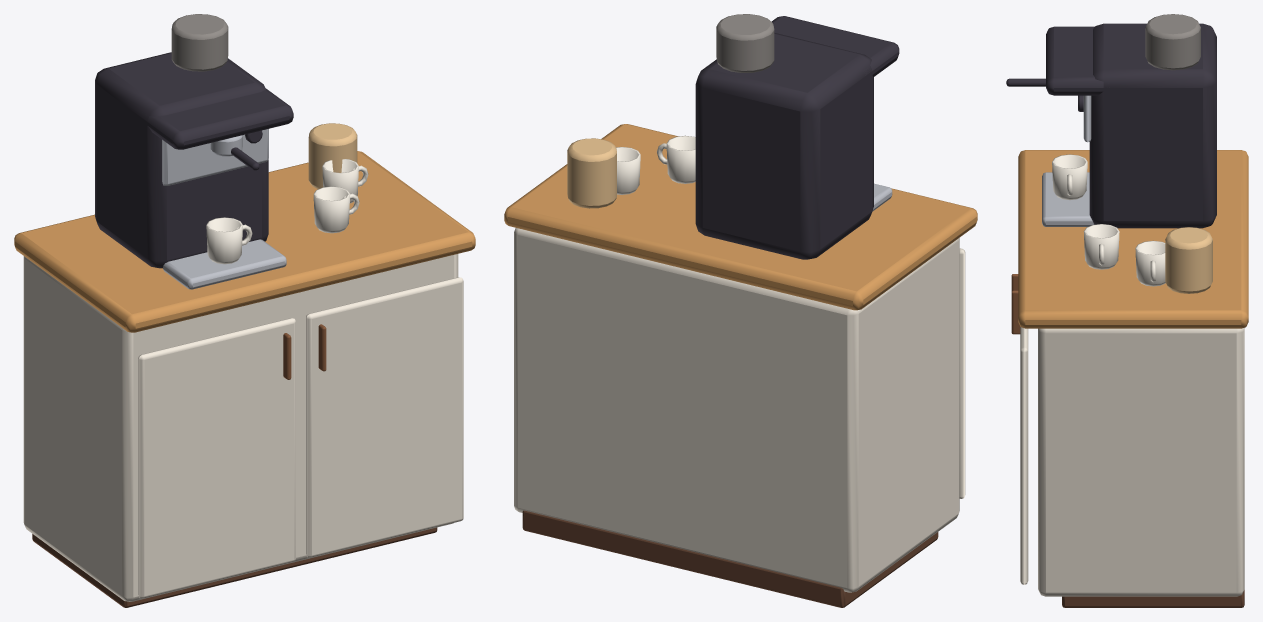
Rendered from coffee_machine.glb.
3 renders of one model, left to right at view 1: azimuth 30°, elevation 25°; view 2: azimuth 150°, elevation 25°; view 3: azimuth 270°, elevation 25°, orthographic. The views are drawn at different scales.
Parts seen in each view (by area): view 1: coffee_machine; view 2: coffee_machine; view 3: coffee_machine.
Part boxes in pixels (x1,y1,x2,y2): coffee_machine: (14, 14, 475, 607); coffee_machine: (504, 14, 977, 607); coffee_machine: (1006, 14, 1248, 607).
Size of the model in its own units: 0.99 by 1.39 by 0.61.
